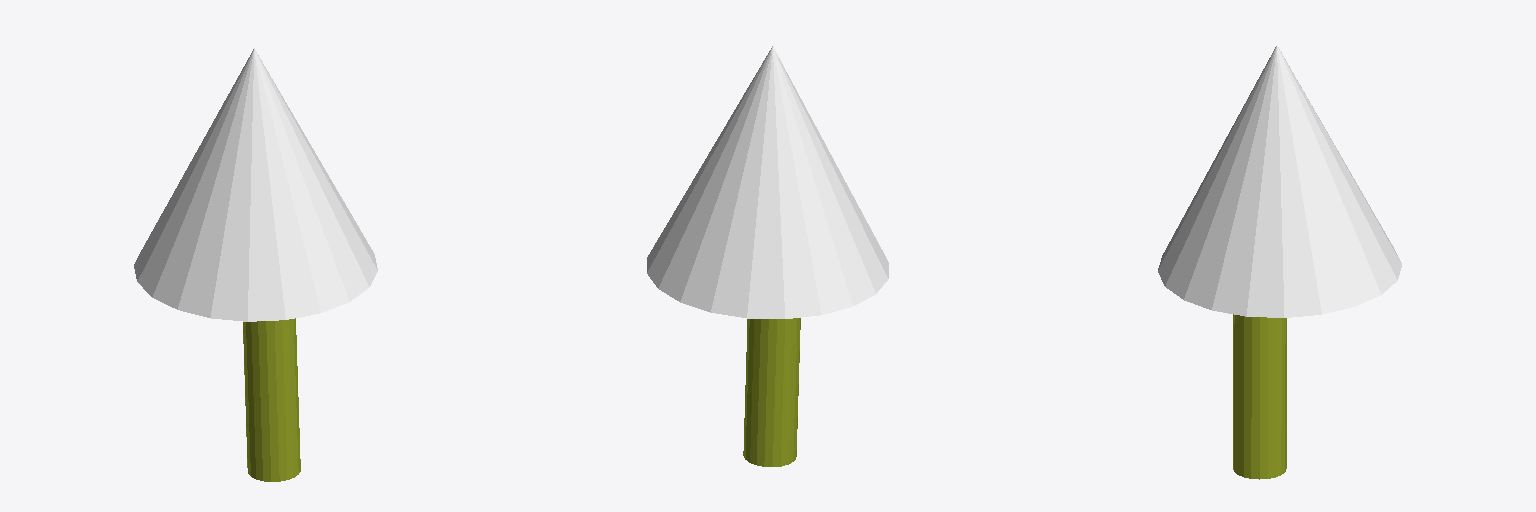
Rendered from right_foot.obj.
The picture shows the model from 3 angles: view 1: azimuth 30°, elevation 25°; view 2: azimuth 150°, elevation 25°; view 3: azimuth 270°, elevation 25°; orthographic projection.
Parts seen in each view (by area): view 1: left_foot2:body13, right_foot; view 2: left_foot2:body13, right_foot; view 3: left_foot2:body13, right_foot.
Part boxes in pixels (x1,y1,x2,y2): left_foot2:body13: (134,48,377,321); right_foot: (243,318,300,481); left_foot2:body13: (647,46,888,318); right_foot: (743,318,800,466); left_foot2:body13: (1158,46,1401,317); right_foot: (1233,314,1286,479).
Size of the model in its own units: 2 by 3.78 by 2.